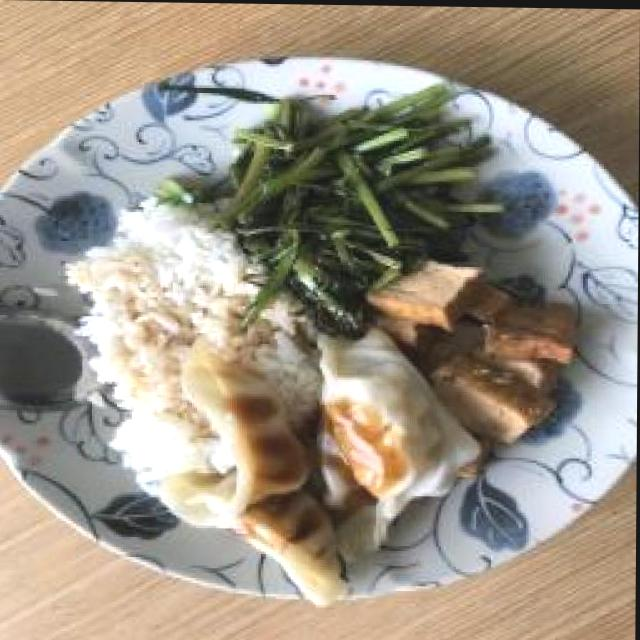fried_dumplings: (202, 357, 453, 555)
rice: (98, 231, 274, 358)
water_spinach: (248, 128, 427, 263)
